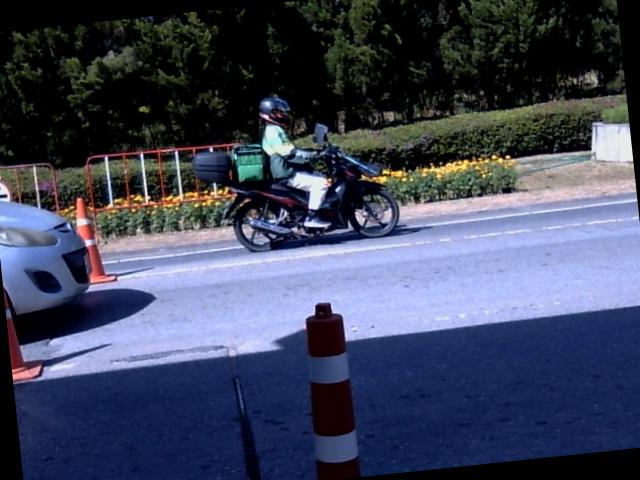helmet: (257, 94, 290, 125)
motor: (193, 123, 398, 251)
person: (259, 96, 328, 226)
